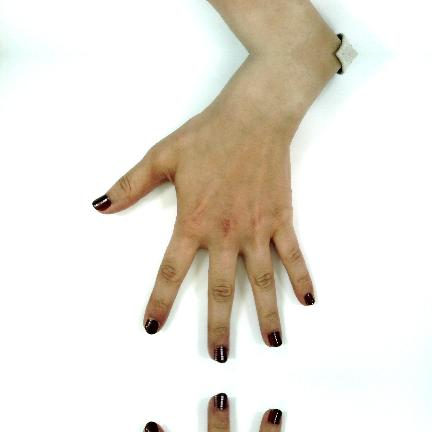Nail: (92, 194, 111, 211), (144, 319, 159, 335), (268, 332, 283, 348), (268, 408, 283, 424), (214, 347, 228, 363), (214, 393, 228, 409), (144, 421, 159, 432), (305, 293, 315, 306)
